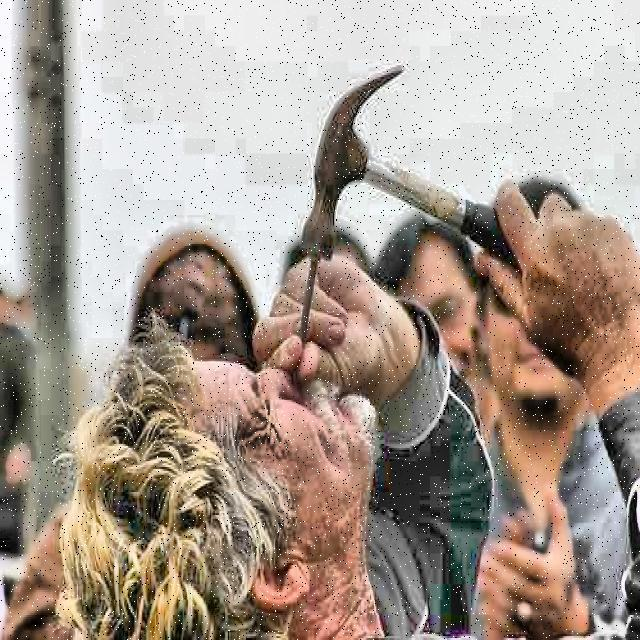hammer: (299, 59, 602, 273)
